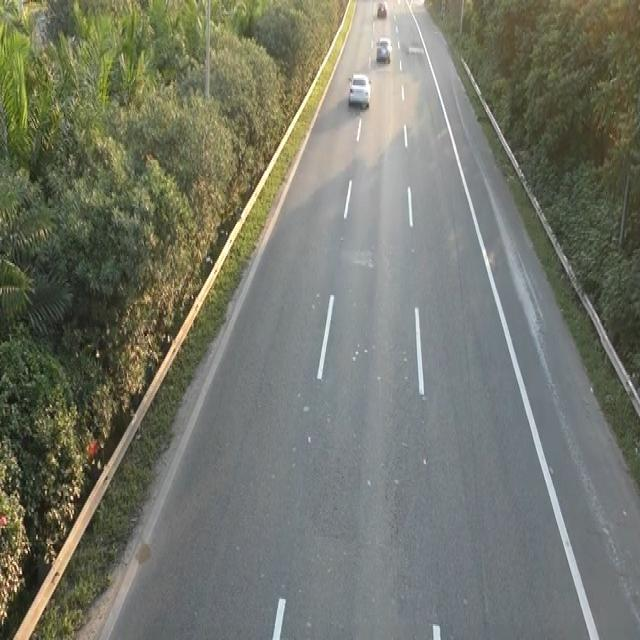bus: (346, 68, 375, 116), (374, 34, 392, 62), (373, 0, 390, 25)
